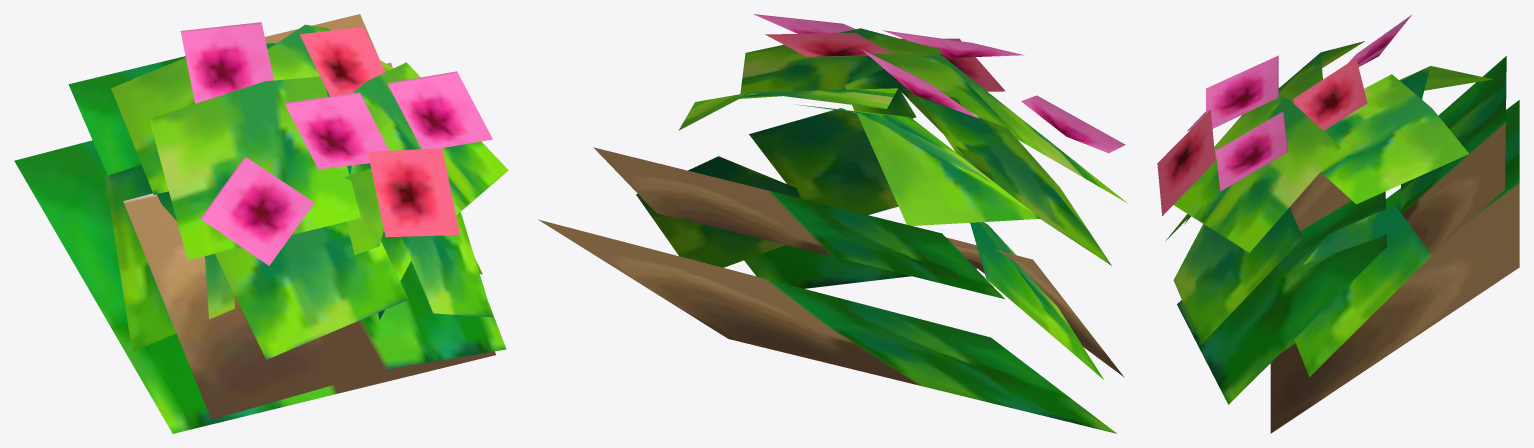
File: fg_bushB_2_pi.dae
3 views of the same model, side by side, from view 1: azimuth 30°, elevation 25°; view 2: azimuth 150°, elevation 25°; view 3: azimuth 270°, elevation 25° (orthographic). The views are drawn at different scales.
Visible parts, largest first — view 1: fg_bushB_2_pi; view 2: fg_bushB_2_pi; view 3: fg_bushB_2_pi.
Part boxes in pixels (box(x1,y1,x2,y2)): fg_bushB_2_pi: box(14, 14, 508, 433); fg_bushB_2_pi: box(538, 14, 1126, 433); fg_bushB_2_pi: box(1157, 15, 1519, 433).
Size of the model in its own units: 43.24 by 36.09 by 38.13.
Materials: 1 (1 with a texture image).
